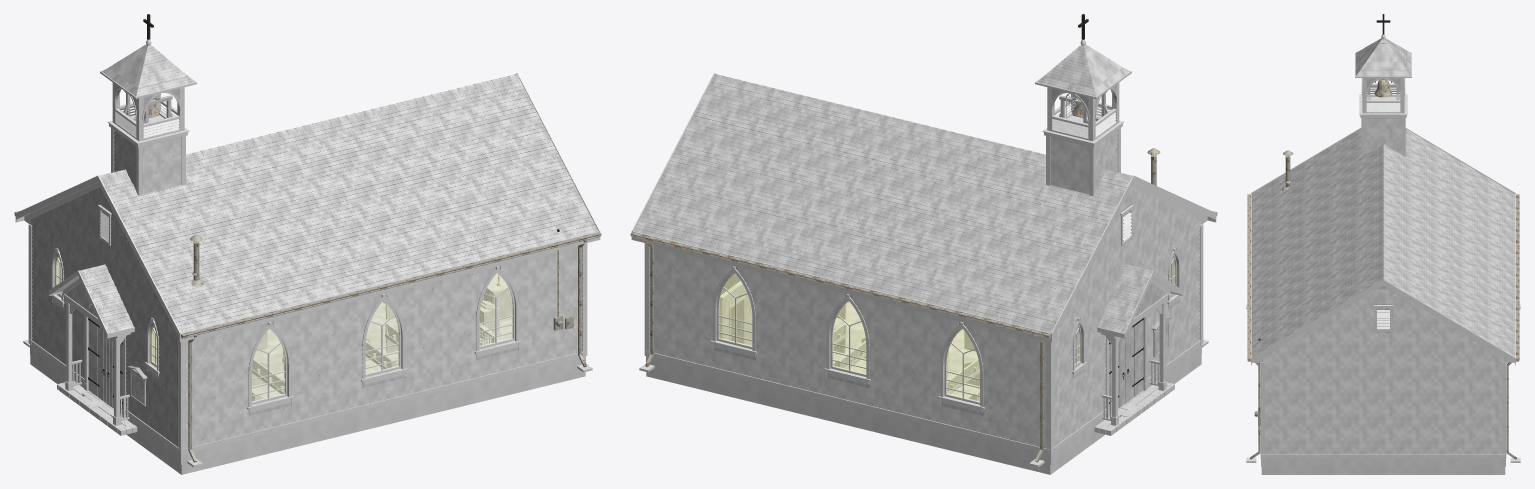
The model's file is Church.glb.
3 renders of one model, left to right at view 1: azimuth 30°, elevation 25°; view 2: azimuth 150°, elevation 25°; view 3: azimuth 270°, elevation 25°, orthographic. The views are drawn at different scales.
Visible parts, largest first — view 1: SM_Town_Church_Shell, SM_Town_Church_Glass, SM_Town_Church_Interior, SM_Town_Church_Fixtures; view 2: SM_Town_Church_Shell, SM_Town_Church_Glass, SM_Town_Church_Interior, SM_Town_Church_Fixtures; view 3: SM_Town_Church_Shell, SM_Town_Church_Fixtures.
Boxes of the visible parts, left/top/right/bottom form: SM_Town_Church_Shell: left=15, top=39, right=600, bottom=474; SM_Town_Church_Glass: left=57, top=257, right=512, bottom=401; SM_Town_Church_Interior: left=156, top=273, right=512, bottom=401; SM_Town_Church_Fixtures: left=14, top=14, right=601, bottom=467; SM_Town_Church_Shell: left=631, top=39, right=1216, bottom=474; SM_Town_Church_Glass: left=719, top=257, right=1174, bottom=401; SM_Town_Church_Interior: left=719, top=273, right=1075, bottom=401; SM_Town_Church_Fixtures: left=630, top=14, right=1217, bottom=467; SM_Town_Church_Shell: left=1251, top=34, right=1515, bottom=474; SM_Town_Church_Fixtures: left=1246, top=14, right=1520, bottom=462.
Size of the model in its own units: 15.47 by 13.25 by 10.36.
28 materials, 19 textured.
